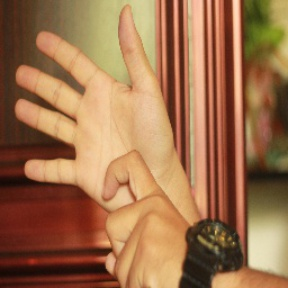R: (15, 4, 186, 284)
